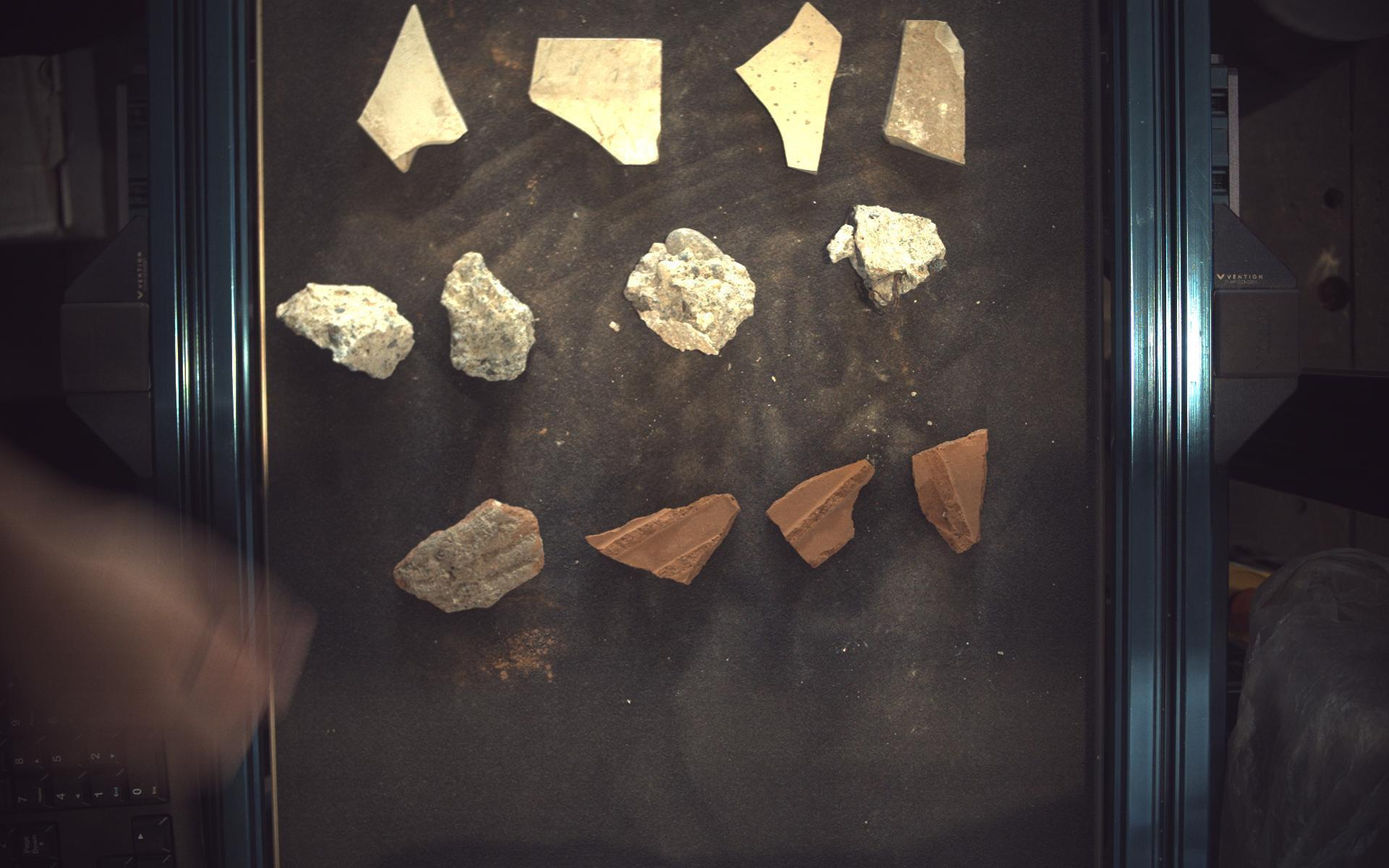brick: (393, 500, 545, 613), (587, 494, 742, 585), (768, 459, 876, 568), (914, 429, 990, 553)
concrete: (625, 227, 756, 354), (276, 282, 414, 379), (829, 204, 948, 307), (441, 251, 535, 381)
tile: (357, 3, 467, 171), (738, 1, 844, 171), (530, 37, 662, 164), (885, 18, 966, 163)
